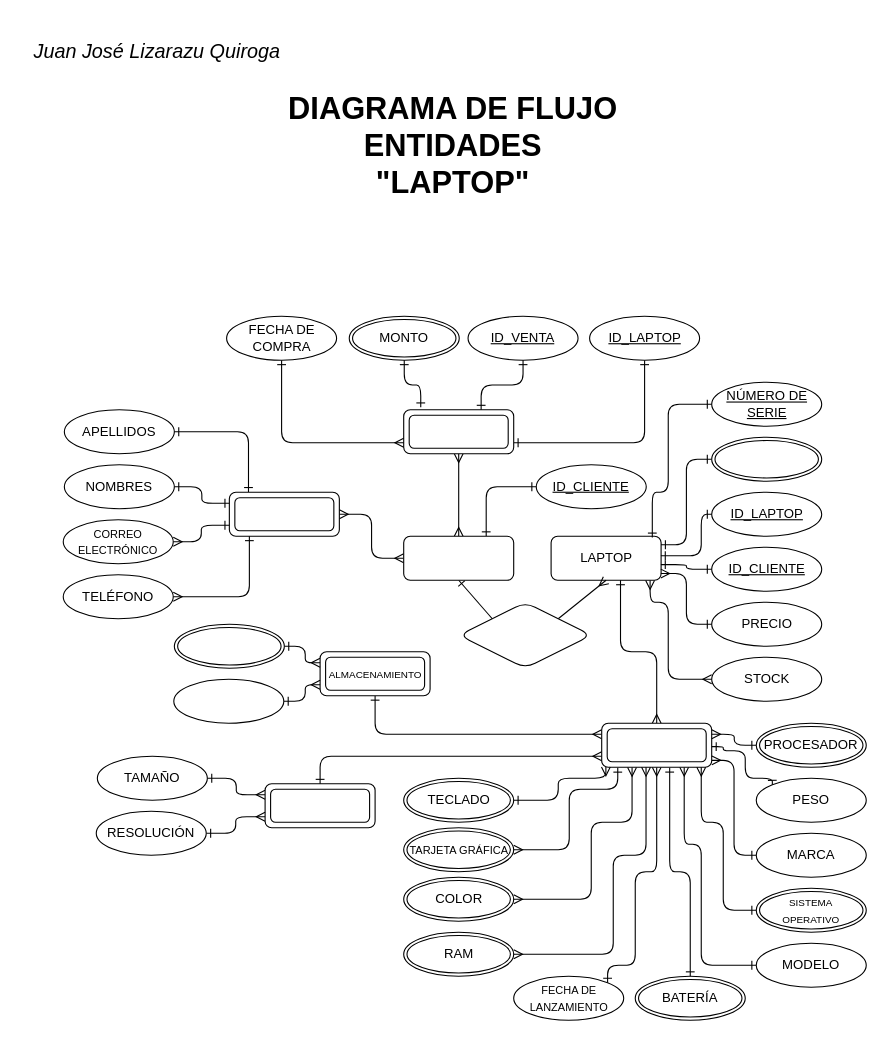
The diagram is 886 pixels wide and 1040 high, and some of its shapes have lost their labels. The centre of each missing label's shape, as x and y in pixels:
CANTIDAD: [228,700]
CLIENTE: [458,557]
COMPRA: [524,634]
DATOS: [283,513]
ESPECIFICACIONES: [656,744]
GARANTÍA: [766,458]
PANTALLA: [319,805]
TIPO DE ALMACENAMIENTO: [228,645]
VENTA: [458,431]
